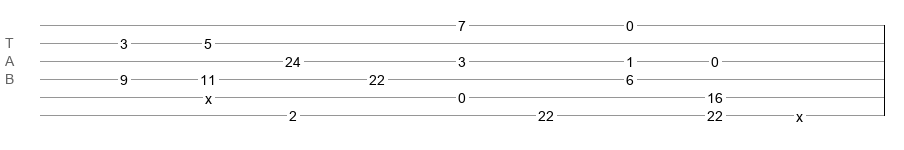0: (458, 90, 466, 100), (626, 18, 634, 28), (711, 54, 719, 64)
1: (626, 54, 634, 64)
11: (200, 72, 216, 82)
16: (707, 90, 723, 100)
2: (289, 108, 297, 118)
22: (369, 72, 385, 82), (538, 108, 554, 118), (707, 108, 723, 118)
24: (285, 54, 301, 64)
3: (120, 36, 128, 46), (458, 54, 466, 64)
5: (204, 36, 212, 46)
6: (626, 72, 634, 82)
7: (458, 18, 466, 28)
9: (120, 72, 128, 82)
x: (205, 91, 212, 99), (796, 109, 803, 117)
